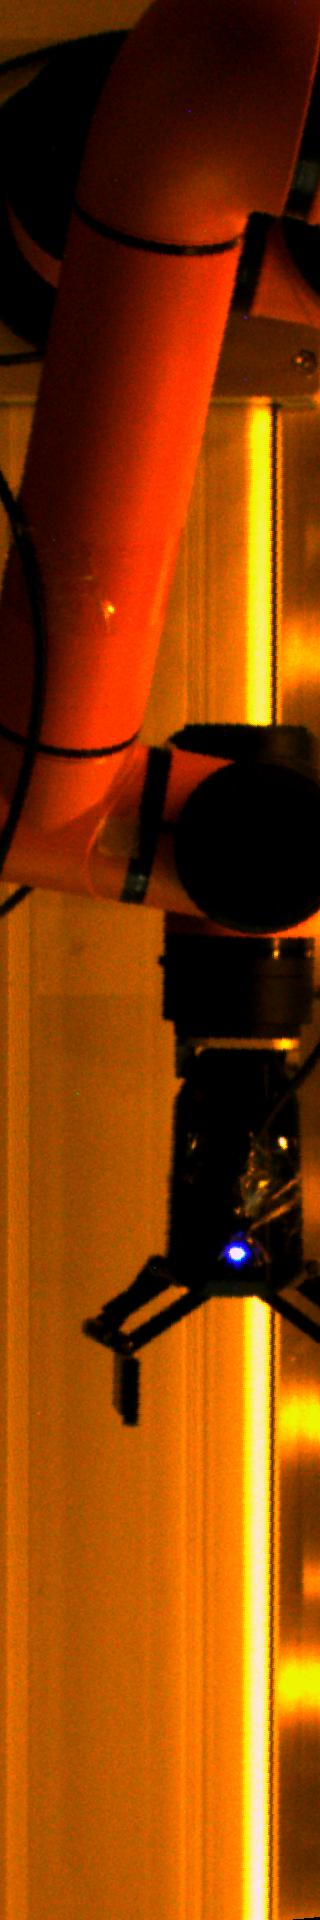keyPoint_1: (222, 1236, 253, 1265)
